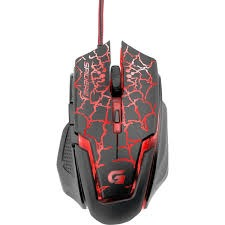mouse: (55, 38, 170, 225)
